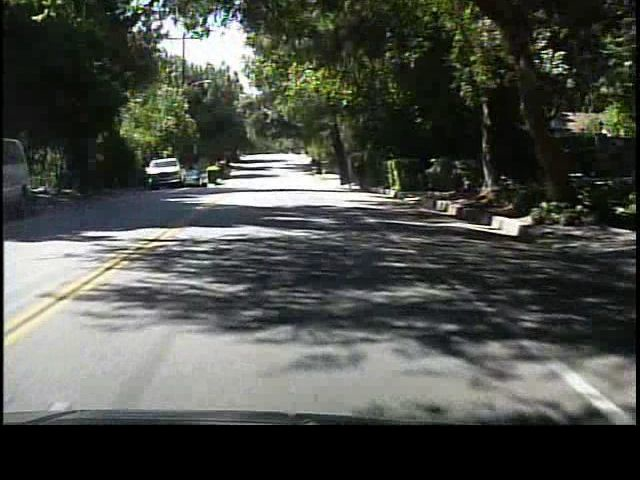person: (353, 154, 370, 192)
